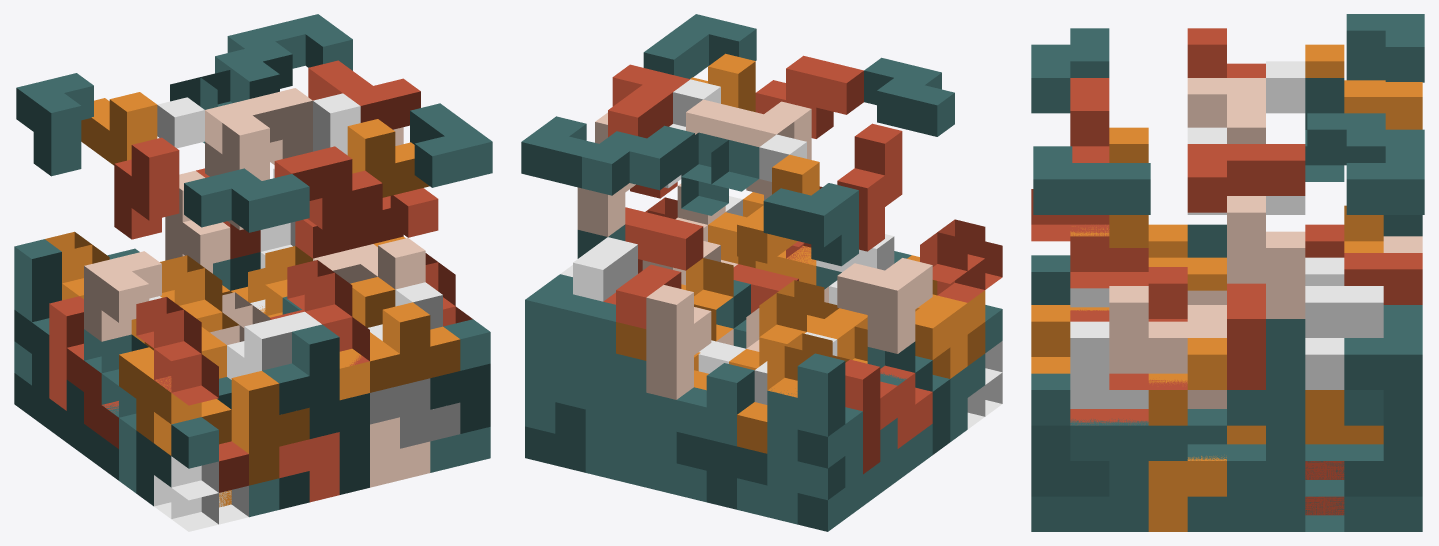
The picture shows the model from 3 angles, left to right: view 1: azimuth 30°, elevation 25°; view 2: azimuth 150°, elevation 25°; view 3: azimuth 270°, elevation 25°; orthographic projection. The views are drawn at different scales.
Visible parts, largest first — view 1: Generic_Models_329_Generic_Models_1__377215_, Generic_Models_326_Generic_Models_1__376955_, Generic_Models_40_Generic_Models_1__399675_, Generic_Models_31_Generic_Models_1__397255_, Generic_Models_375_Generic_Models_1__387503_, Generic_Models_54_Generic_Models_1__401639_, Generic_Models_327_Generic_Models_1__377085_, Generic_Models_34_Generic_Models_1__402637_, Generic_Models_365_Generic_Models_1__385427_, Generic_Models_297_Generic_Models_1__371749_, Generic_Models_298_Generic_Models_1__372294_, Generic_Models_370_Generic_Models_1__386530_ (+54 smaller); view 2: Generic_Models_365_Generic_Models_1__385427_, Generic_Models_364_Generic_Models_1__385199_, Generic_Models_326_Generic_Models_1__376955_, Generic_Models_5_Generic_Models_1__391846_, Generic_Models_2_Generic_Models_1__391680_, Generic_Models_328_Generic_Models_1__377150_, Generic_Models_27_Generic_Models_1__396149_, Generic_Models_329_Generic_Models_1__377215_, Generic_Models_333_Generic_Models_1__377426_, Generic_Models_327_Generic_Models_1__377085_, Generic_Models_54_Generic_Models_1__401639_, Generic_Models_40_Generic_Models_1__399675_ (+56 smaller); view 3: Generic_Models_49_Generic_Models_1__400958_, Generic_Models_332_Generic_Models_1__377365_, Generic_Models_34_Generic_Models_1__402637_, Generic_Models_53_Generic_Models_1__401251_, Generic_Models_33_Generic_Models_1__397753_, Generic_Models_376_Generic_Models_1__387617_, Generic_Models_24_Generic_Models_1__395491_, Generic_Models_326_Generic_Models_1__376955_, Generic_Models_361_Generic_Models_1__384463_, Generic_Models_27_Generic_Models_1__396149_, Generic_Models_334_Generic_Models_1__377476_, Generic_Models_328_Generic_Models_1__377150_ (+47 smaller).
Boxes of the visible parts, bbox=[...] form: Generic_Models_329_Generic_Models_1__377215_: bbox=[184, 168, 309, 232]; Generic_Models_326_Generic_Models_1__376955_: bbox=[16, 73, 93, 176]; Generic_Models_40_Generic_Models_1__399675_: bbox=[136, 297, 218, 405]; Generic_Models_31_Generic_Models_1__397255_: bbox=[370, 302, 460, 392]; Generic_Models_375_Generic_Models_1__387503_: bbox=[231, 371, 309, 485]; Generic_Models_54_Generic_Models_1__401639_: bbox=[114, 137, 179, 239]; Generic_Models_327_Generic_Models_1__377085_: bbox=[274, 146, 382, 229]; Generic_Models_34_Generic_Models_1__402637_: bbox=[410, 103, 492, 187]; Generic_Models_365_Generic_Models_1__385427_: bbox=[84, 251, 161, 341]; Generic_Models_297_Generic_Models_1__371749_: bbox=[205, 88, 312, 164]; Generic_Models_298_Generic_Models_1__372294_: bbox=[154, 456, 248, 531]; Generic_Models_370_Generic_Models_1__386530_: bbox=[262, 324, 339, 414]; Generic_Models_365_Generic_Models_1__385427_: bbox=[837, 258, 932, 353]; Generic_Models_364_Generic_Models_1__385199_: bbox=[646, 285, 711, 399]; Generic_Models_326_Generic_Models_1__376955_: bbox=[763, 183, 858, 266]; Generic_Models_5_Generic_Models_1__391846_: bbox=[767, 353, 845, 460]; Generic_Models_2_Generic_Models_1__391680_: bbox=[646, 363, 754, 446]; Generic_Models_328_Generic_Models_1__377150_: bbox=[582, 125, 694, 195]; Generic_Models_27_Generic_Models_1__396149_: bbox=[525, 287, 615, 370]; Generic_Models_329_Generic_Models_1__377215_: bbox=[864, 57, 954, 136]; Generic_Models_333_Generic_Models_1__377426_: bbox=[681, 132, 759, 215]; Generic_Models_327_Generic_Models_1__377085_: bbox=[755, 55, 863, 138]; Generic_Models_54_Generic_Models_1__401639_: bbox=[837, 123, 902, 251]; Generic_Models_40_Generic_Models_1__399675_: bbox=[920, 219, 1002, 302]; Generic_Models_49_Generic_Models_1__400958_: bbox=[1227, 196, 1305, 318]; Generic_Models_332_Generic_Models_1__377365_: bbox=[1187, 144, 1305, 212]; Generic_Models_34_Generic_Models_1__402637_: bbox=[1033, 146, 1150, 214]; Generic_Models_53_Generic_Models_1__401251_: bbox=[1109, 286, 1226, 373]; Generic_Models_33_Generic_Models_1__397753_: bbox=[1305, 286, 1383, 389]; Generic_Models_376_Generic_Models_1__387617_: bbox=[1070, 418, 1187, 496]; Generic_Models_24_Generic_Models_1__395491_: bbox=[1227, 319, 1305, 425]; Generic_Models_326_Generic_Models_1__376955_: bbox=[1346, 14, 1424, 82]; Generic_Models_361_Generic_Models_1__384463_: bbox=[1344, 425, 1422, 496]; Generic_Models_27_Generic_Models_1__396149_: bbox=[1383, 305, 1422, 425]; Generic_Models_334_Generic_Models_1__377476_: bbox=[1346, 146, 1424, 214]; Generic_Models_328_Generic_Models_1__377150_: bbox=[1307, 113, 1424, 165].
Bounding box in the file's own units: 5048 × 5000 × 5027.
